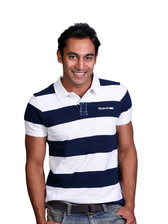clothoes: (18, 72, 141, 206)
